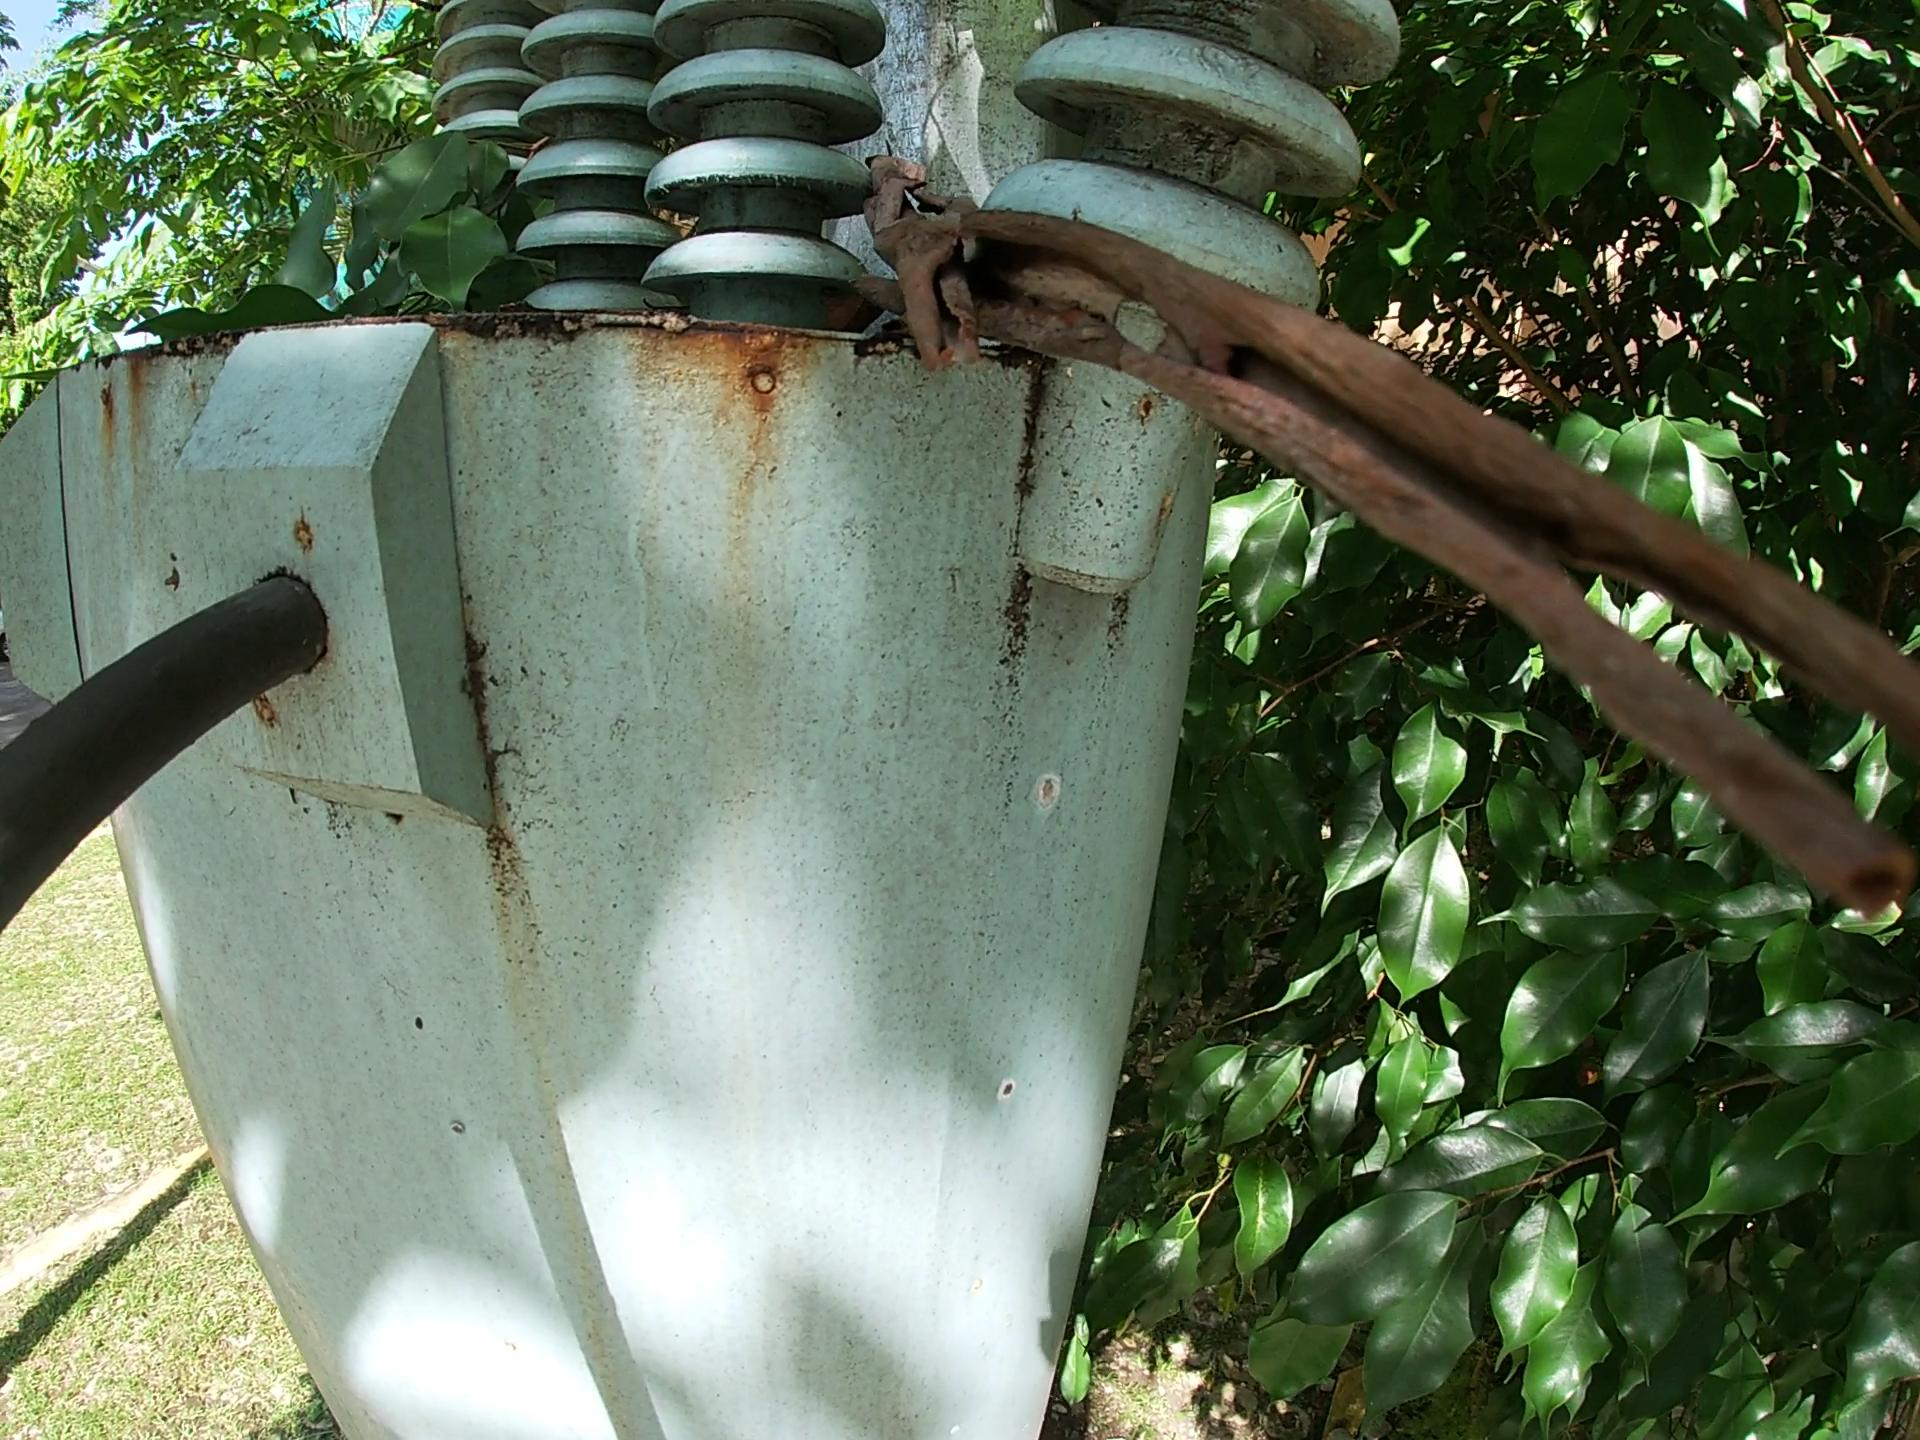branch with leaves: (33, 107, 528, 325)
tree branch: (859, 144, 1915, 974), (593, 293, 714, 315)
